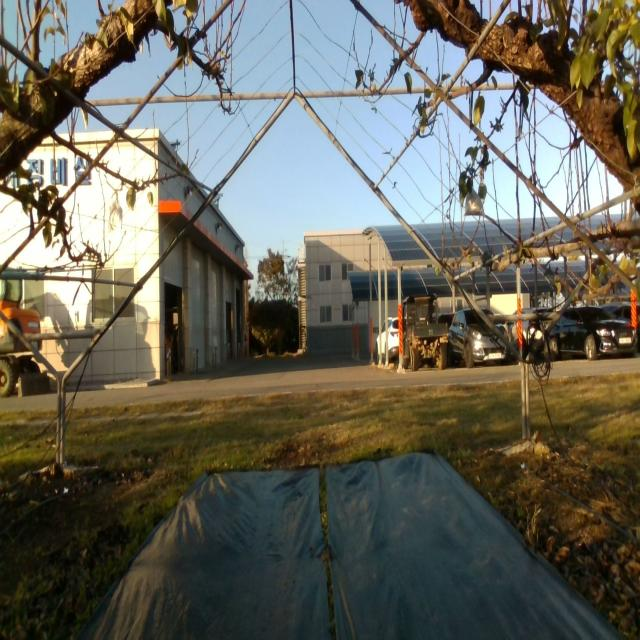pearbags: (464, 187, 486, 218), (108, 200, 123, 234)
